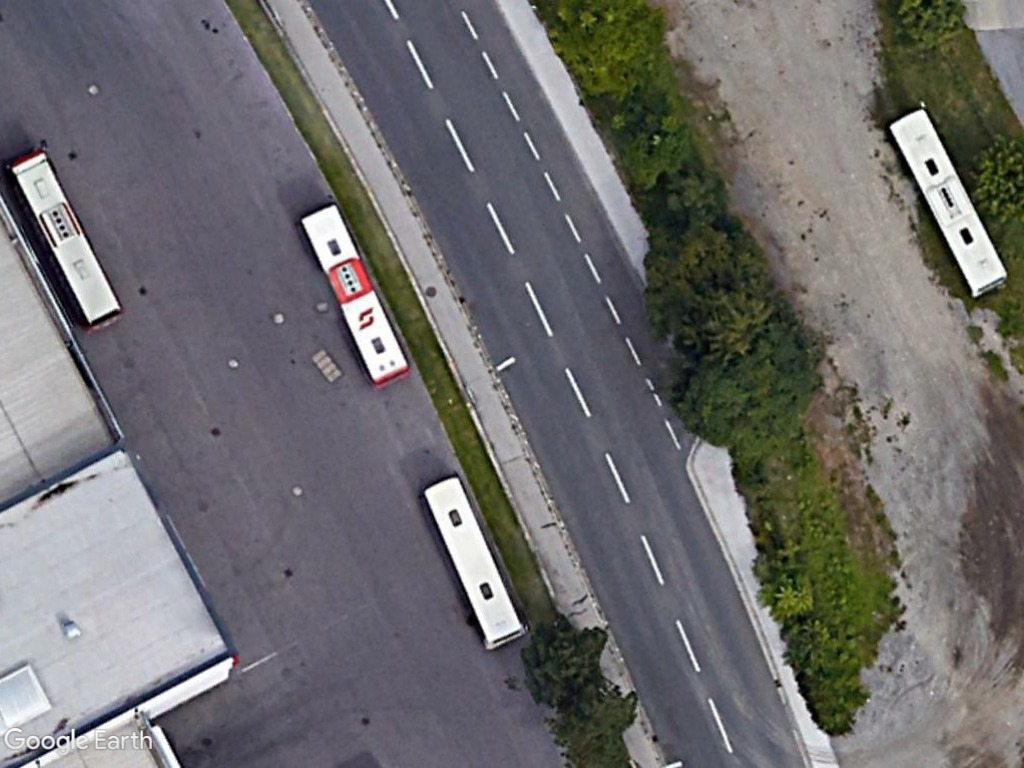bus: (880, 103, 1012, 301), (3, 145, 127, 336), (293, 201, 412, 389), (415, 474, 530, 652)
